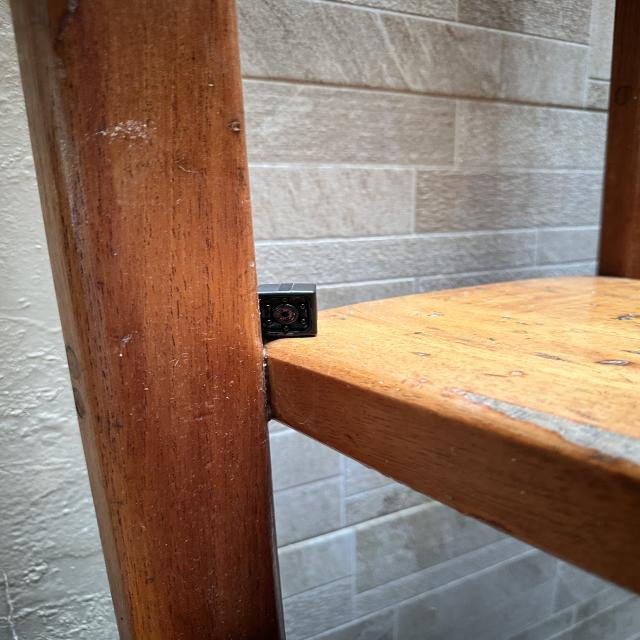hidden camera: (275, 308, 296, 323)
